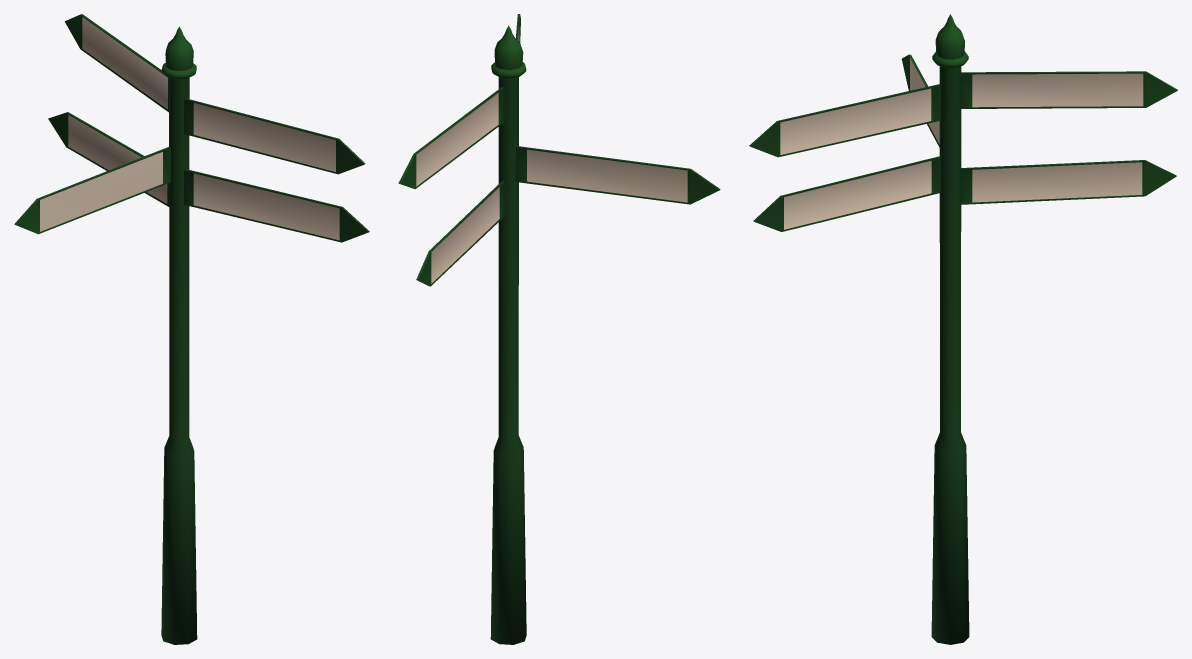
Rendered from MetalDirectionSign_Type1.fbx.
3 renders of one model, left to right at view 1: azimuth 30°, elevation 25°; view 2: azimuth 150°, elevation 25°; view 3: azimuth 270°, elevation 25°, orthographic.
Parts seen in each view (by area): view 1: MetalDirectionSign_Type1; view 2: MetalDirectionSign_Type1; view 3: MetalDirectionSign_Type1.
Part boxes in pixels (x1,y1,x2,y2): MetalDirectionSign_Type1: (14, 14, 369, 644); MetalDirectionSign_Type1: (398, 14, 720, 644); MetalDirectionSign_Type1: (749, 14, 1177, 644).
Size of the model in its own units: 138 by 288 by 178.
